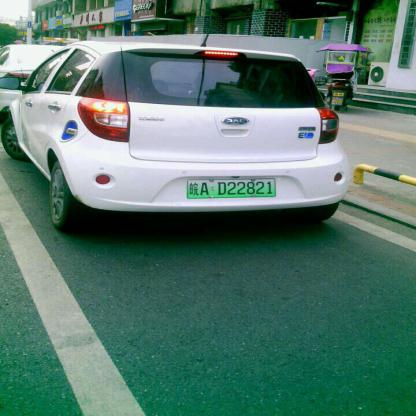lp: (186, 177, 276, 197)
